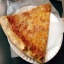pizza: (2, 1, 51, 64)
